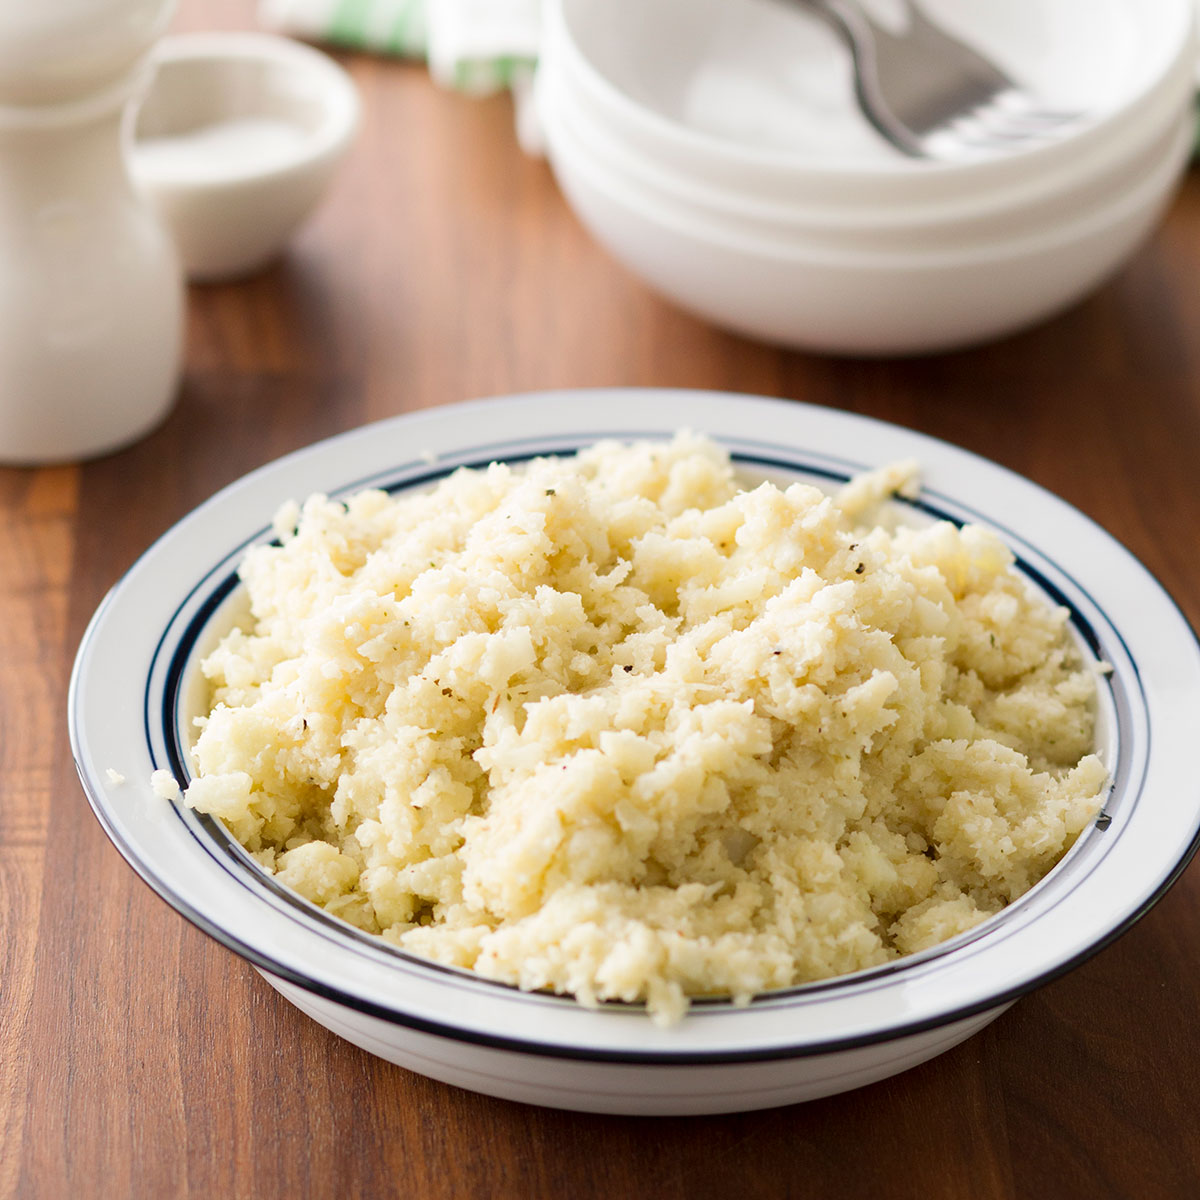plain rice: (335, 530, 990, 905)
